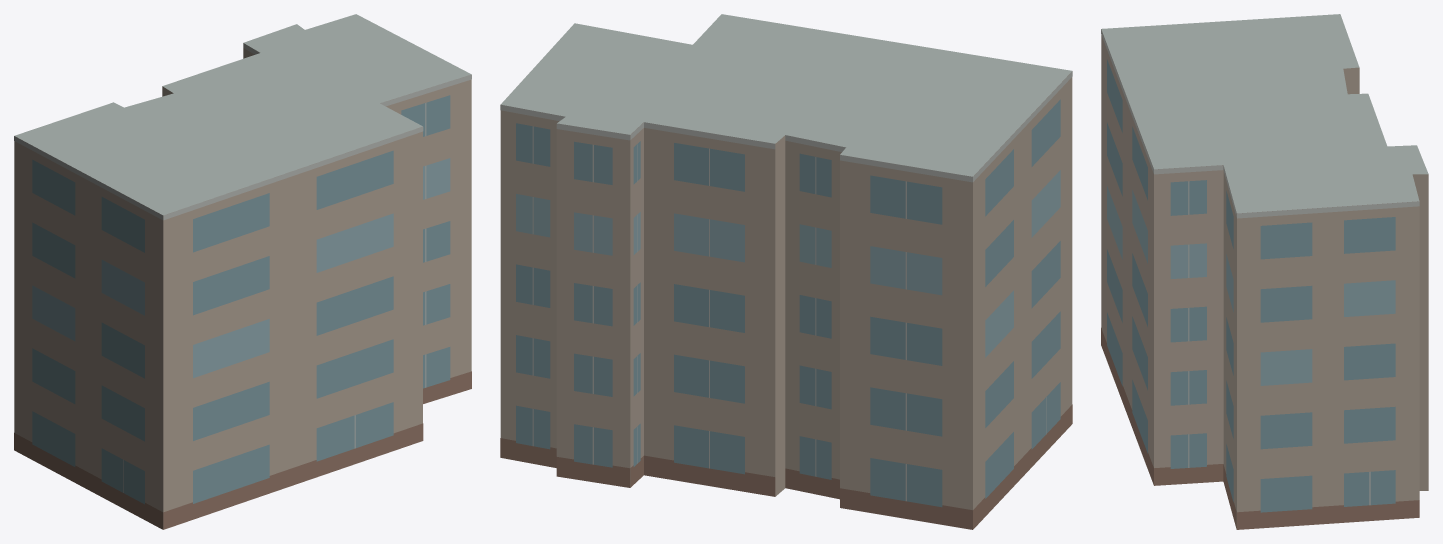
The model's file is survey-upis-32560786.glb.
3 renders of one model, left to right at view 1: azimuth 30°, elevation 25°; view 2: azimuth 150°, elevation 25°; view 3: azimuth 270°, elevation 25°, orthographic. The views are drawn at different scales.
Visible parts, largest first — view 1: survey-upis-32560786.tmp; view 2: survey-upis-32560786.tmp; view 3: survey-upis-32560786.tmp.
Part boxes in pixels (x1,y1,x2,y2): survey-upis-32560786.tmp: (14,14,471,529); survey-upis-32560786.tmp: (500,14,1072,529); survey-upis-32560786.tmp: (1101,14,1428,529).
Size of the model in its own units: 20.63 by 15.25 by 14.32.
